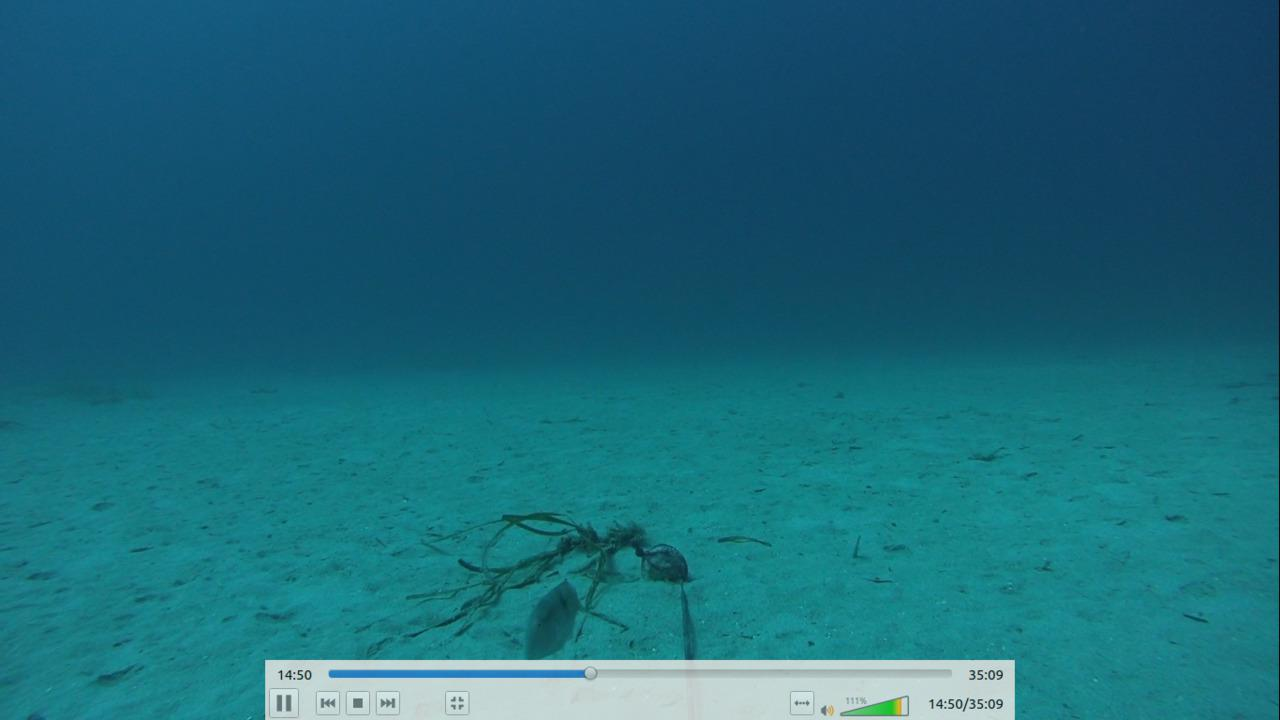raor: (517, 575, 584, 656)
